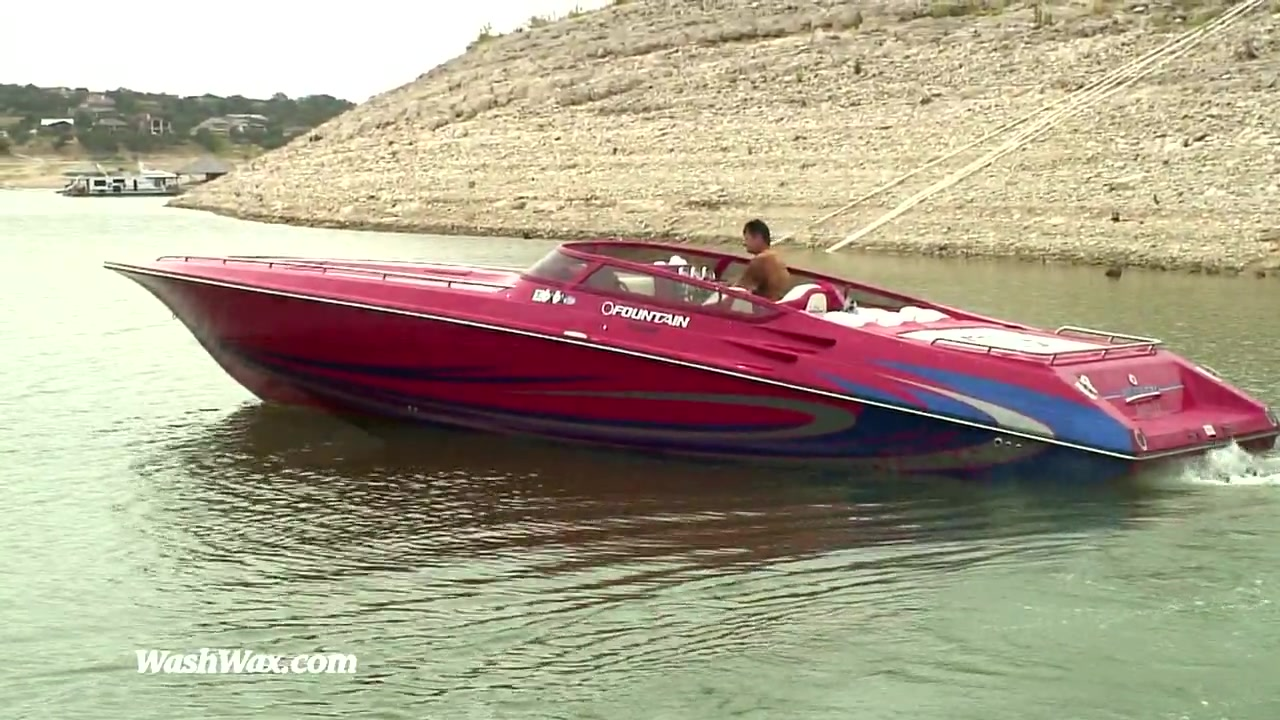boat: (104, 234, 1280, 474)
